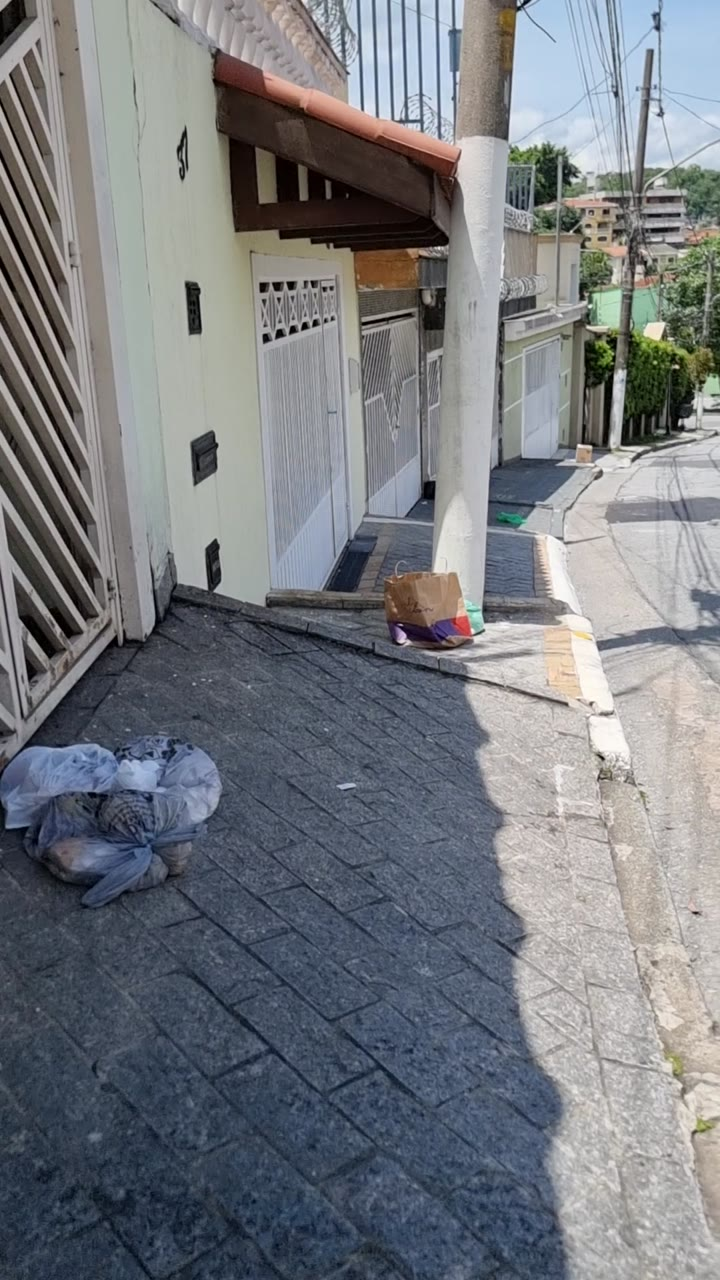obstaculo: (446, 0, 562, 589), (1, 736, 221, 906), (384, 570, 472, 648)
